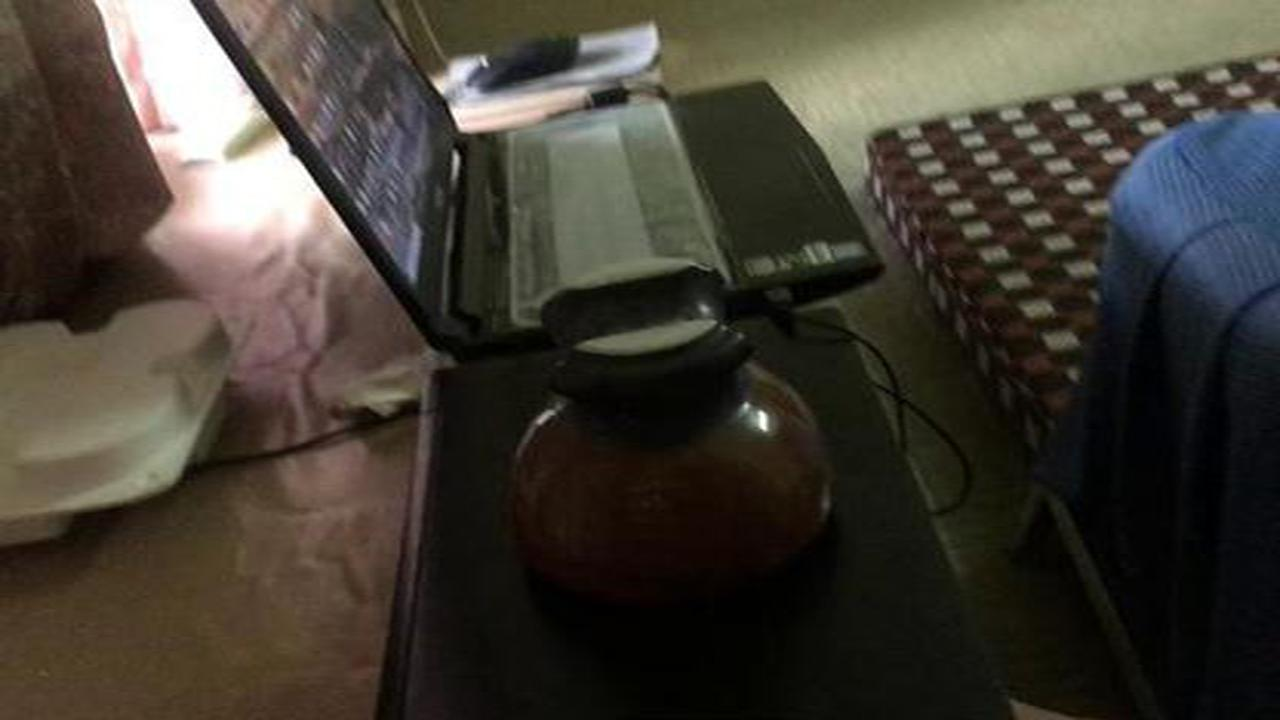insulator_pin: (470, 248, 874, 627)
